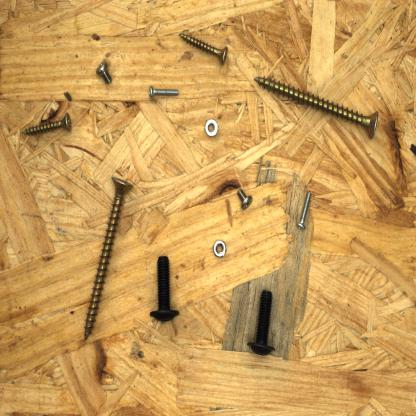screw: (81, 172, 136, 346), (251, 74, 381, 142), (146, 254, 182, 326), (244, 288, 278, 358), (178, 30, 232, 68), (18, 109, 75, 141), (294, 188, 313, 231), (144, 84, 184, 100), (93, 58, 114, 87), (235, 185, 255, 214)
